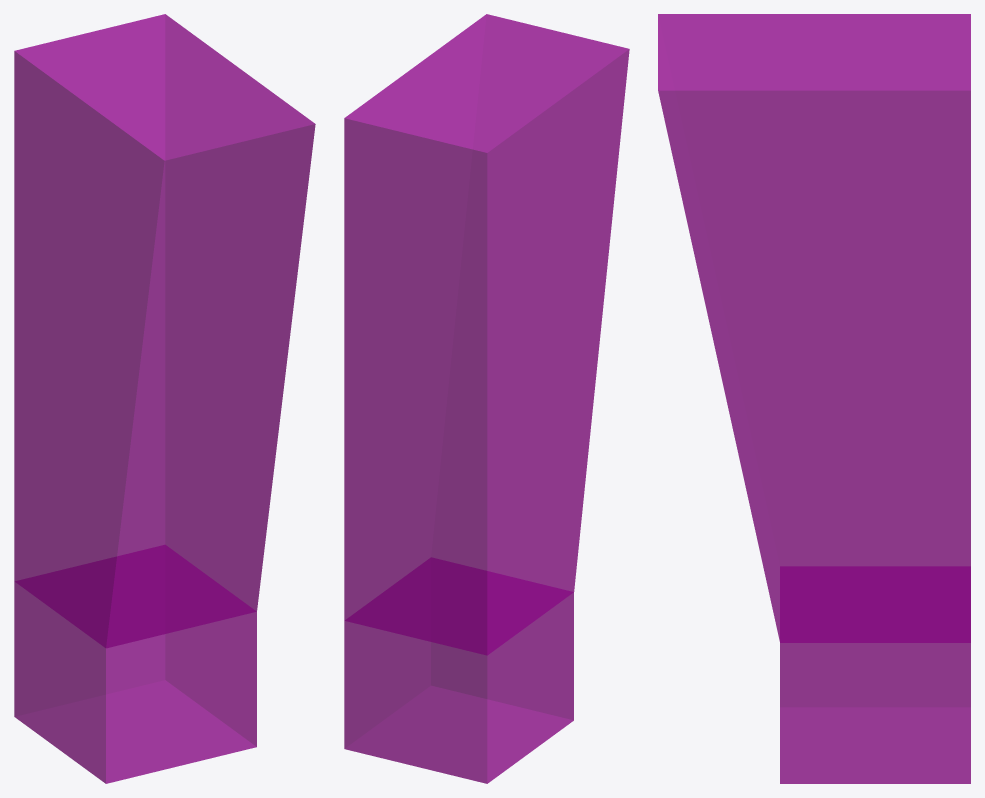
File: SM_Bld_Pillar_04_Collision.fbx
3 renders of one model, left to right at view 1: azimuth 30°, elevation 25°; view 2: azimuth 150°, elevation 25°; view 3: azimuth 270°, elevation 25°, orthographic. The views are drawn at different scales.
Visible parts, largest first — view 1: SM_Bld_Pillar_04_Collision; view 2: SM_Bld_Pillar_04_Collision; view 3: SM_Bld_Pillar_04_Collision.
Boxes of the visible parts, x1=… form: SM_Bld_Pillar_04_Collision: x1=14, y1=14, x2=315, y2=783; SM_Bld_Pillar_04_Collision: x1=344, y1=14, x2=629, y2=783; SM_Bld_Pillar_04_Collision: x1=658, y1=14, x2=970, y2=783.
Bounding box in the file's own units: 71.65 × 302 × 123.
